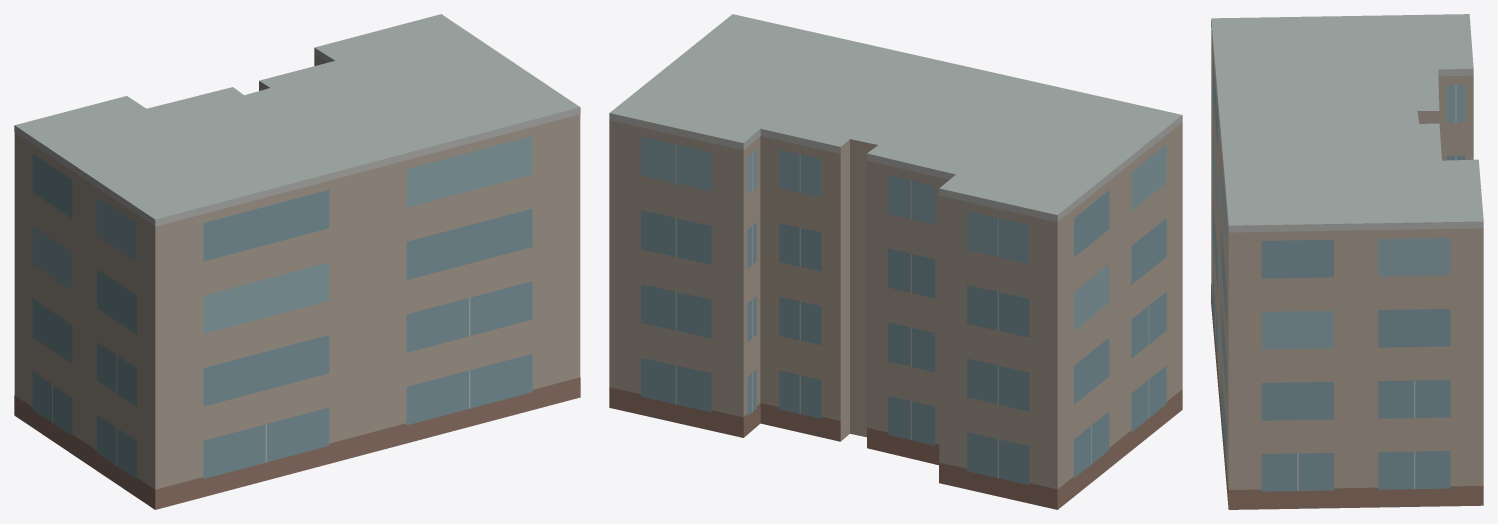
Rendered from survey-upis-32940853.glb.
3 views of the same model, side by side, from view 1: azimuth 30°, elevation 25°; view 2: azimuth 150°, elevation 25°; view 3: azimuth 270°, elevation 25° (orthographic). The views are drawn at different scales.
Visible parts, largest first — view 1: survey-upis-32940853.tmp; view 2: survey-upis-32940853.tmp; view 3: survey-upis-32940853.tmp.
Boxes of the visible parts, x1=… form: survey-upis-32940853.tmp: x1=14, y1=14, x2=580, y2=509; survey-upis-32940853.tmp: x1=609, y1=14, x2=1182, y2=509; survey-upis-32940853.tmp: x1=1211, y1=14, x2=1483, y2=509.
Bounding box in the file's own units: 16.14 × 10.1 × 8.79.
